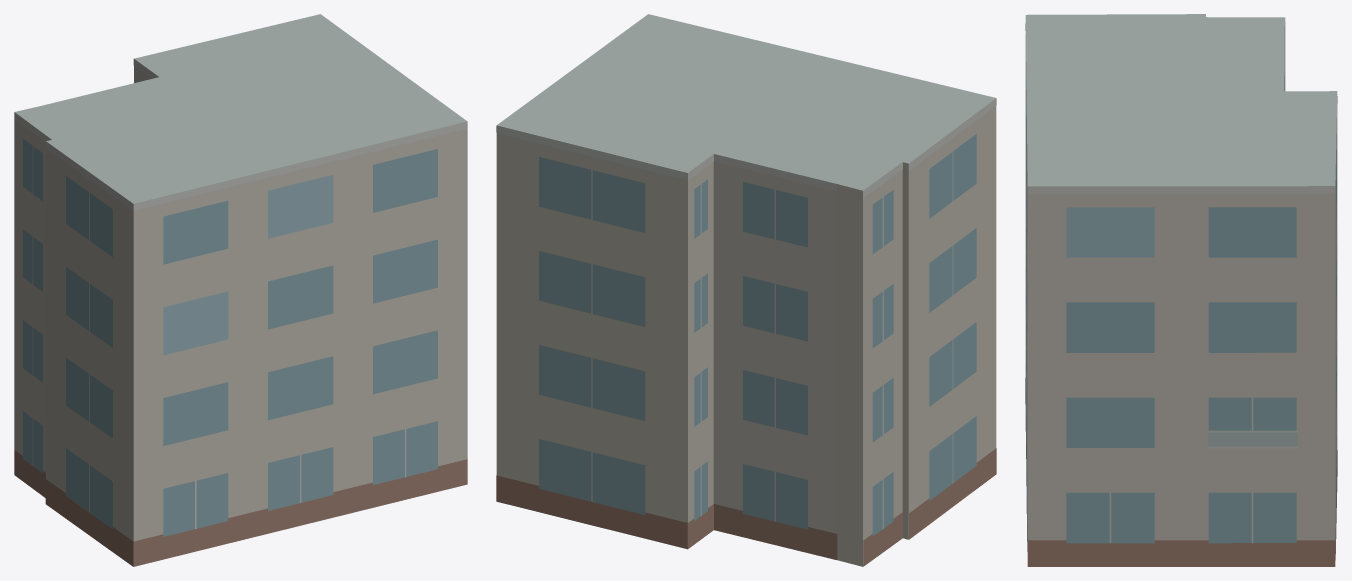
Rendered from survey-upis-33010499.glb.
The picture shows the model from 3 angles, left to right: view 1: azimuth 30°, elevation 25°; view 2: azimuth 150°, elevation 25°; view 3: azimuth 270°, elevation 25°; orthographic projection. The views are drawn at different scales.
Parts seen in each view (by area): view 1: survey-upis-33010499.tmp; view 2: survey-upis-33010499.tmp; view 3: survey-upis-33010499.tmp.
Part boxes in pixels (x1,y1,x2,y2): survey-upis-33010499.tmp: [14, 14, 467, 566]; survey-upis-33010499.tmp: [496, 14, 996, 566]; survey-upis-33010499.tmp: [1025, 14, 1337, 566].
Bounding box in the file's own units: 12.17 × 12.5 × 9.29.
